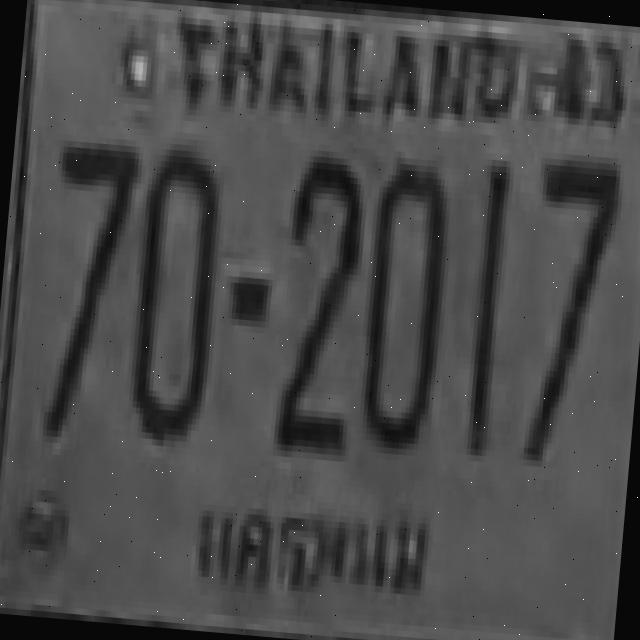0: (122, 142, 222, 436), (354, 156, 449, 444)
1: (459, 156, 507, 452)
2: (271, 148, 365, 449)
7: (516, 152, 618, 459), (35, 134, 136, 435)
NakhonPhanom: (180, 482, 440, 630)
